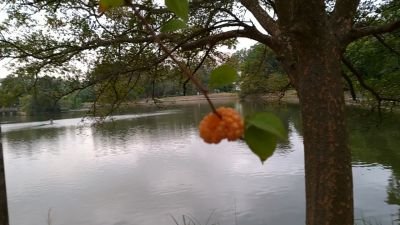eggs: (197, 105, 246, 145)
